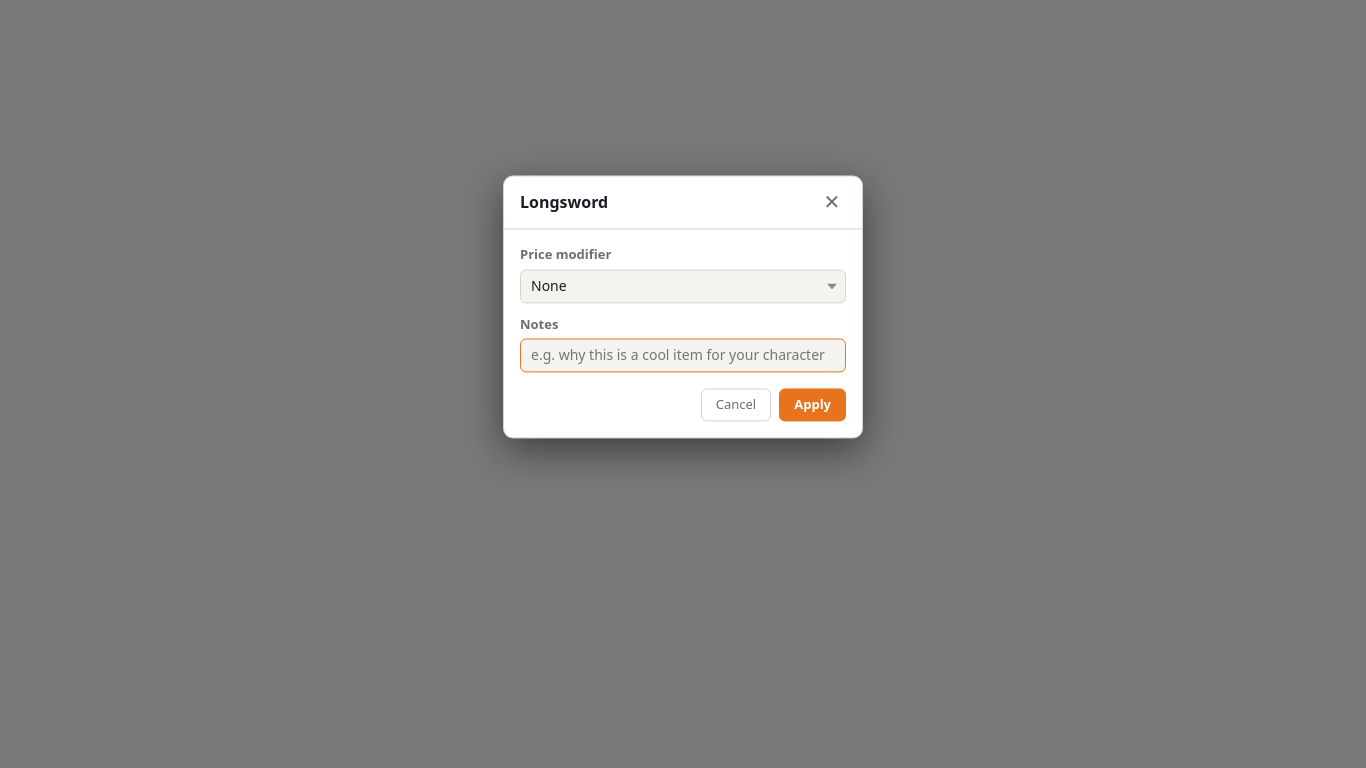
Test: ItemSettingsModal › disables Apply when fractional discount is not whole copper
Step 1. Select "Custom (gp)" in the dropdown labelled "Price modifier" → (683, 286), box [520,269,846,303]
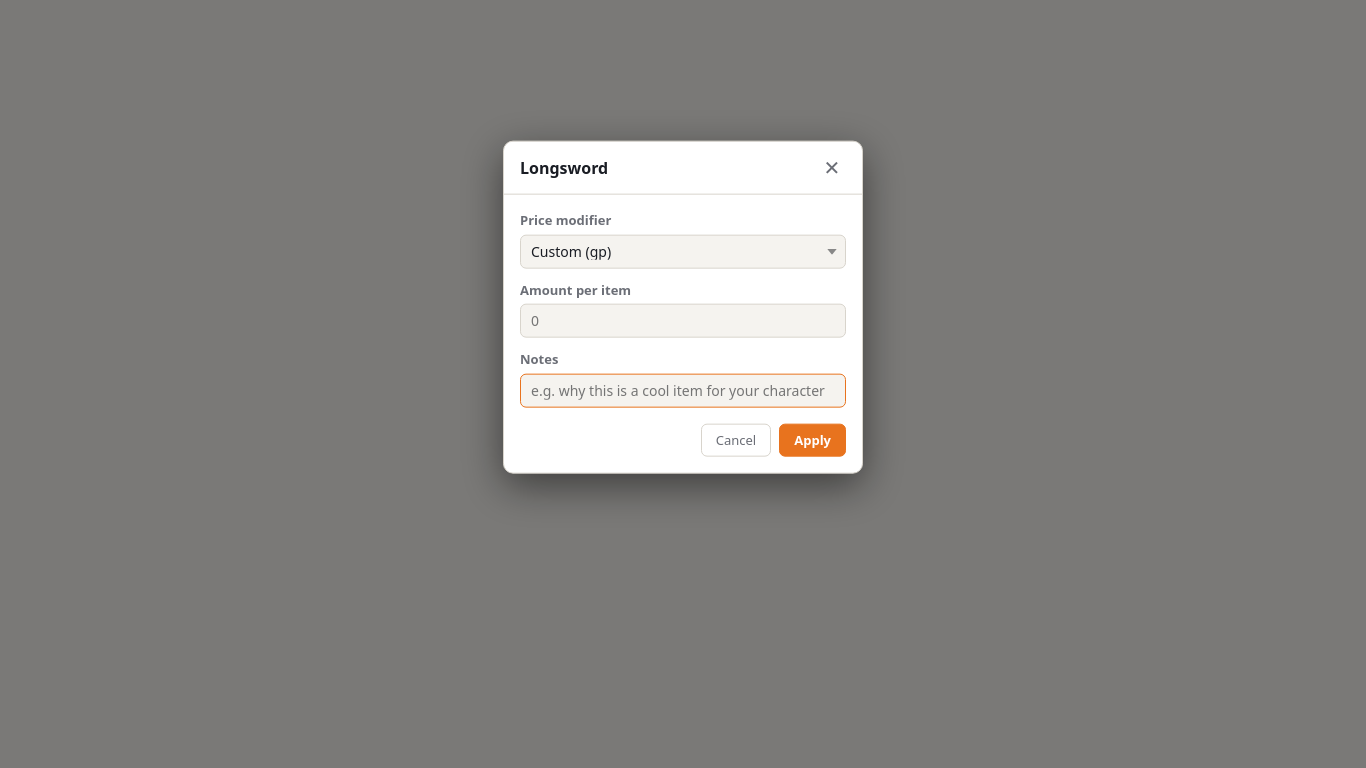
Step 2. Type "2.555" into the number field labelled "Amount per item" → (683, 321), box [520,304,846,338]
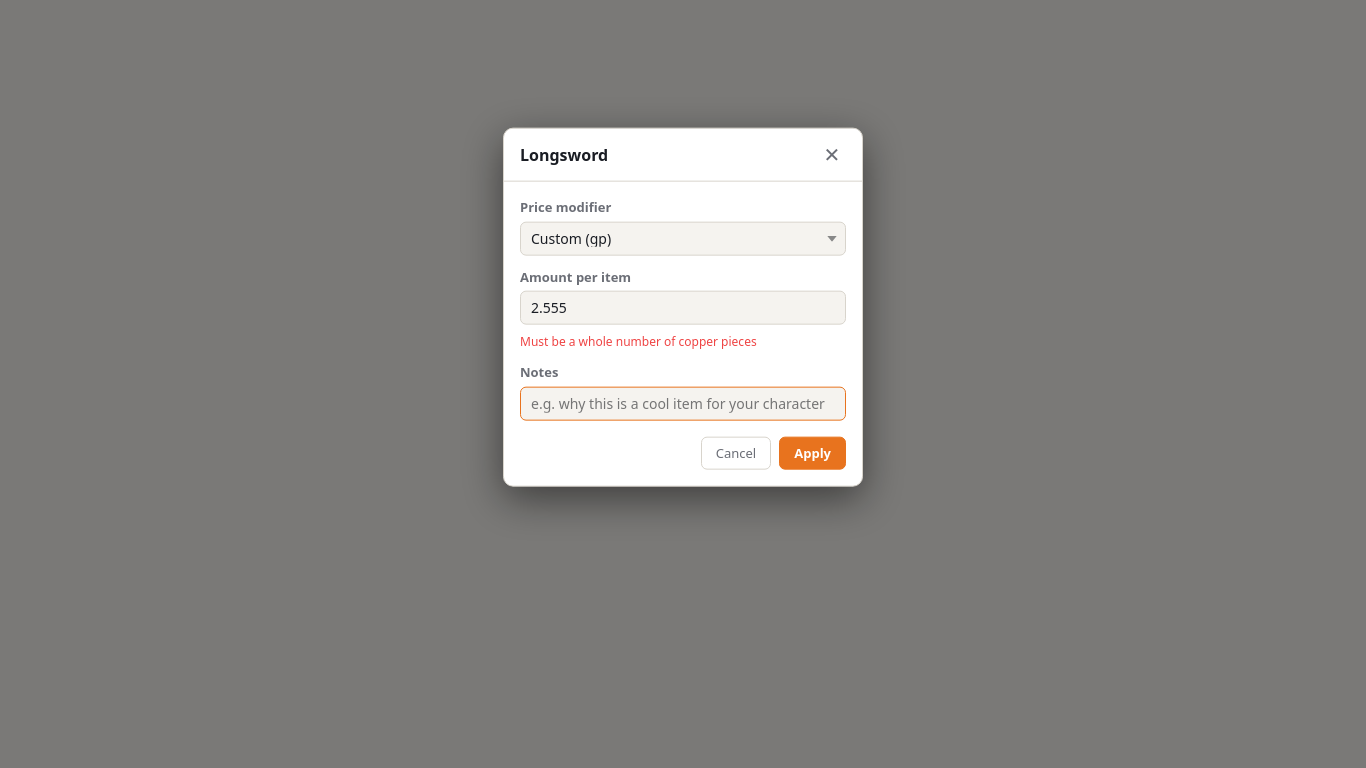
Expected: the button "Apply" is disabled, [779,437,846,470]
Expected: the message reads "Must be a whole number of copper pieces", [520,333,757,350]
